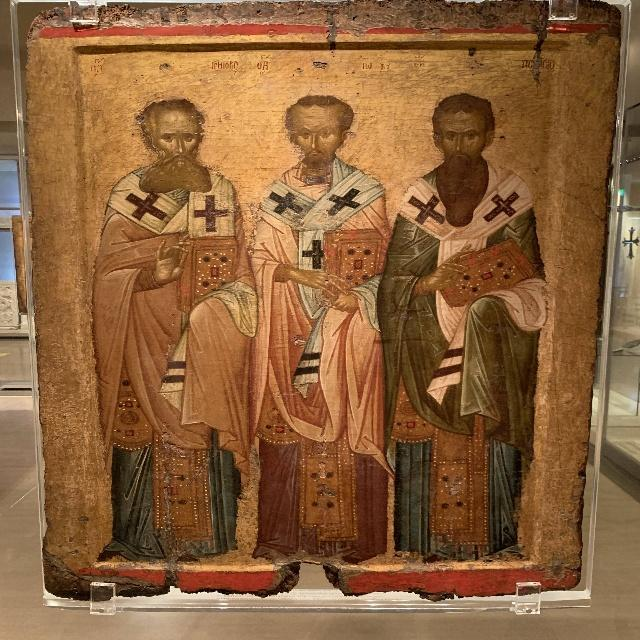book: (437, 243, 531, 301), (330, 232, 375, 299), (189, 240, 233, 307)
church_fathers: (98, 82, 551, 570)
cross: (110, 175, 174, 229), (402, 182, 451, 237), (321, 181, 379, 222), (479, 185, 528, 222), (192, 192, 229, 239), (269, 183, 310, 224), (302, 232, 328, 272)
